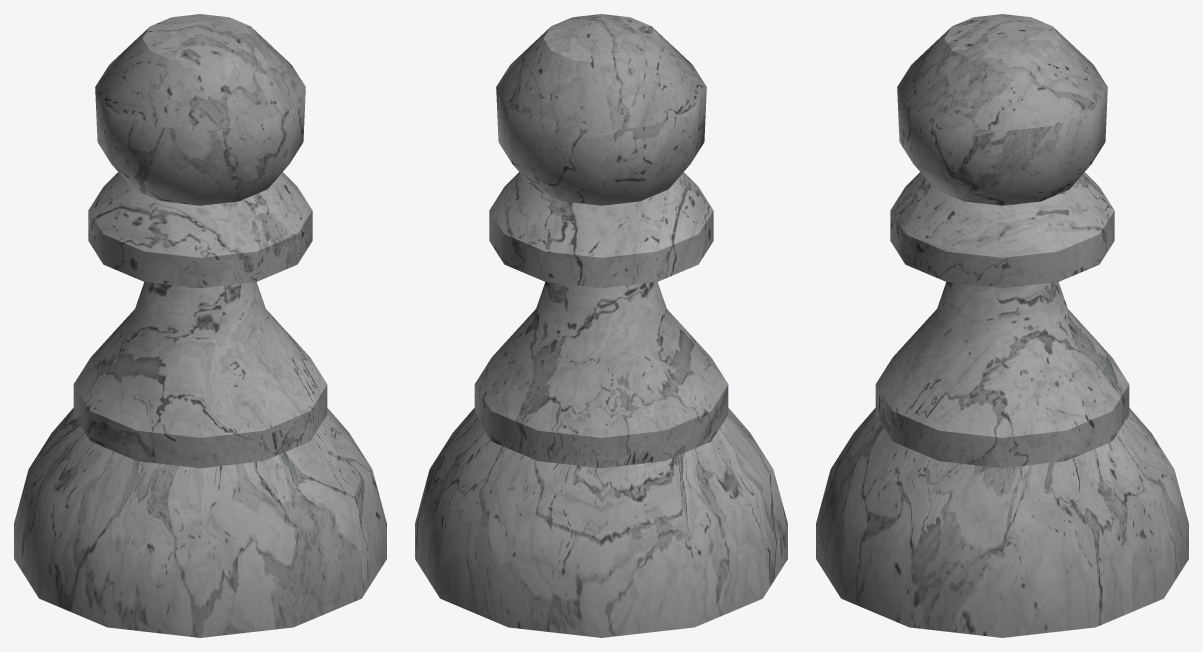
File: pawn.glb
The picture shows the model from 3 angles, left to right: view 1: azimuth 30°, elevation 25°; view 2: azimuth 150°, elevation 25°; view 3: azimuth 270°, elevation 25°; orthographic projection.
Visible parts, largest first — view 1: Pawn; view 2: Pawn; view 3: Pawn.
Boxes of the visible parts, x1=… form: Pawn: x1=14, y1=14, x2=386, y2=637; Pawn: x1=415, y1=14, x2=787, y2=637; Pawn: x1=816, y1=14, x2=1188, y2=637.
Bounding box in the file's own units: 1.1 × 1.74 × 1.1.
Materials: 1 (1 with a texture image).
